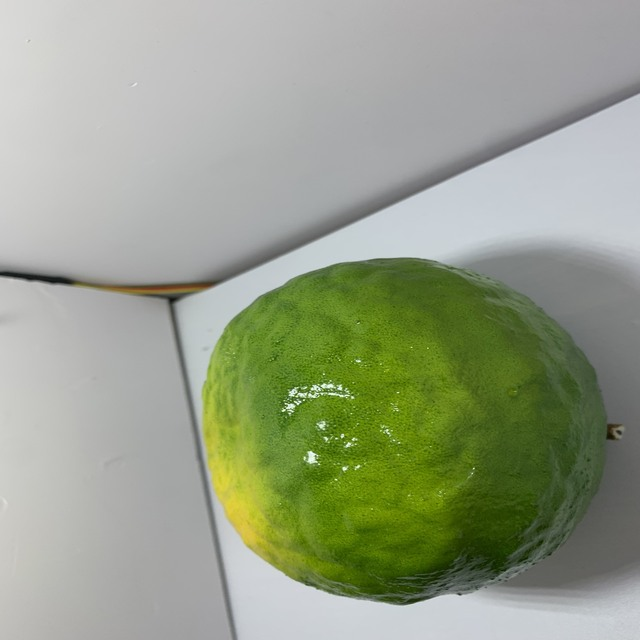Cam xanh: (193, 255, 612, 617)
